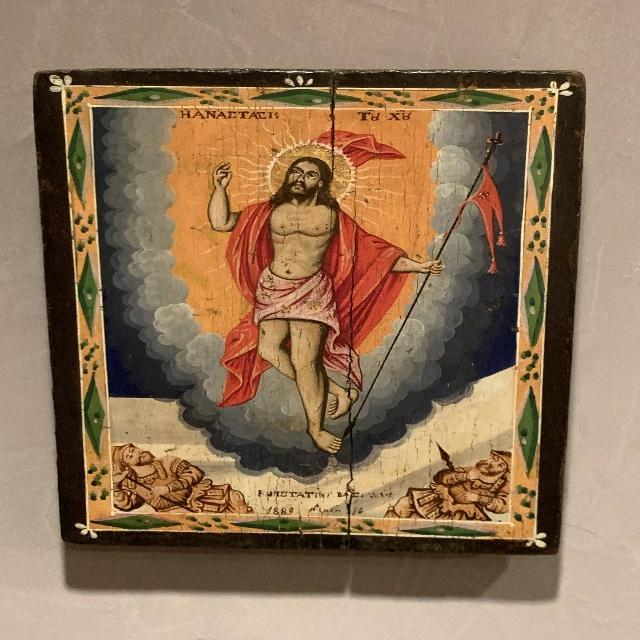aura: (262, 133, 363, 197)
chris_resurrected: (199, 117, 410, 470)
scepter: (336, 129, 513, 442)
